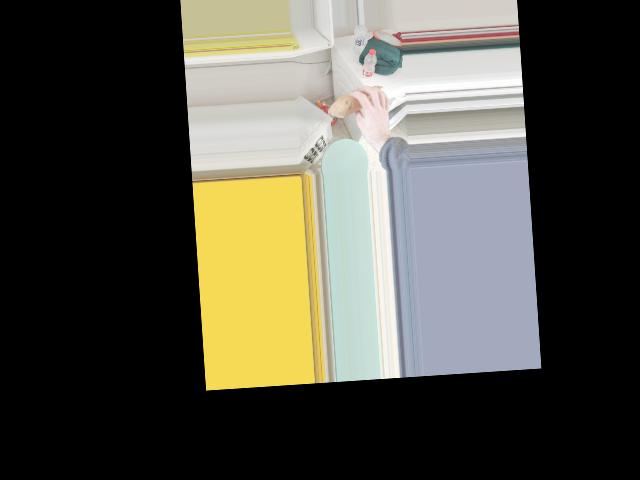sweet_potato: (331, 85, 386, 113)
